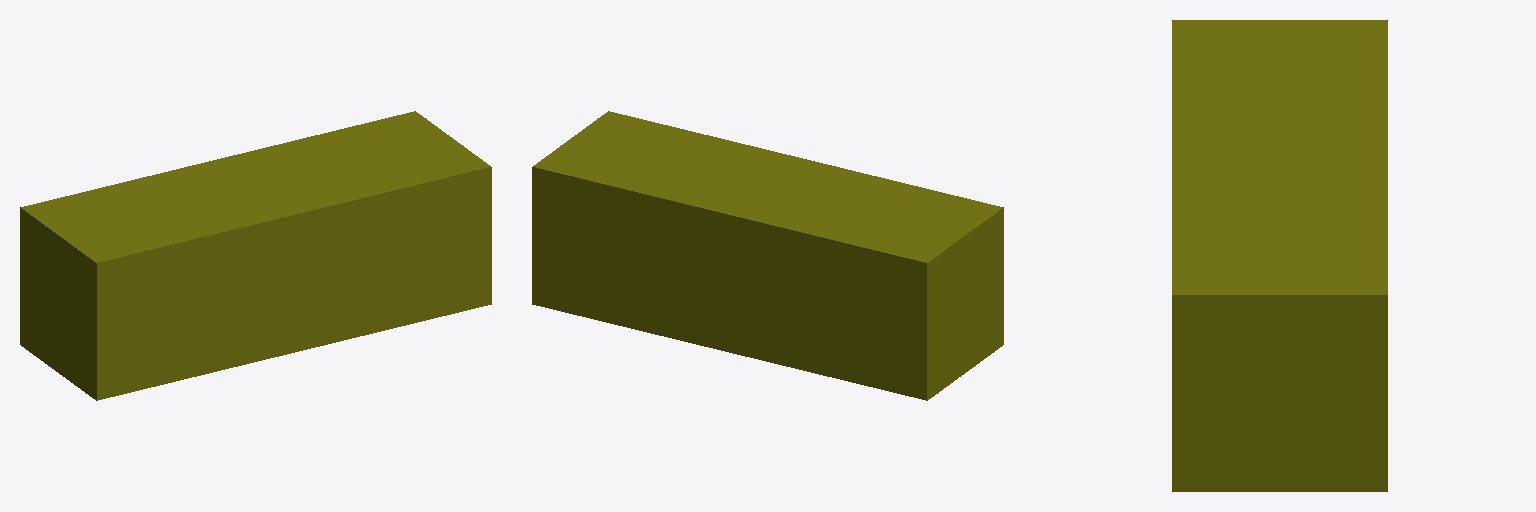
robot.urdf — block:
<robot name="block">
  
  <link name="block1">
    <visual>
      <origin xyz="0.0 0.0 0.0" rpy="0 0 0"/>
      <geometry>
        <box size="0.013818134757157804 0.05 0.05"/>
      </geometry>
      <material name="dark_yellow">
        <color rgba="0.5 0.5 0.1 1"/>
      </material>
    </visual> 
    <collision>
      <origin xyz="0.0 0.0 0.0" rpy="0 0 0"/>
      <geometry>
        <box size="0.013818134757157804 0.05 0.05"/>
      </geometry>
    </collision>
    <inertial>
      <mass value="0.9140615701668282"/>
      <inertia ixx="0.0003808589875695118" ixy="0" ixz="0" iyy="0.00020497380140846333" iyz="0" izz="0.00020497380140846333"/>
    </inertial>
  </link>

  <link name="block2">
    <visual>
      <origin xyz="0.0 0.0 0.0" rpy="0 0 0"/>
      <geometry>
        <box size="0.013818134757157804 0.05 0.05"/>
      </geometry>
      <material name="dark_yellow">
        <color rgba="0.5 0.5 0.1 1"/>
      </material>
    </visual> 
    <collision>
      <origin xyz="0.0 0.0 0.0" rpy="0 0 0"/>
      <geometry>
        <box size="0.013818134757157804 0.05 0.05"/>
      </geometry>
    </collision>
    <inertial>
      <mass value="0.24977644088794848"/>
      <inertia ixx="0.00010407351703664522" ixy="0" ixz="0" iyy="5.601113564126199e-05" iyz="0" izz="5.601113564126199e-05"/>
    </inertial>
  </link>

  <link name="block3">
    <visual>
      <origin xyz="0.0 0.0 0.0" rpy="0 0 0"/>
      <geometry>
        <box size="0.12236373048568439 0.05 0.05"/>
      </geometry>
      <material name="dark_yellow">
        <color rgba="0.5 0.5 0.1 1"/>
      </material>
    </visual> 
    <collision>
      <origin xyz="0.0 0.0 0.0" rpy="0 0 0"/>
      <geometry>
        <box size="0.12236373048568439 0.05 0.05"/>
      </geometry>
    </collision>
    <inertial>
      <mass value="0.9140615701668282"/>
      <inertia ixx="0.0003808589875695118" ixy="0" ixz="0" iyy="0.0013309408706971644" iyz="0" izz="0.0013309408706971644"/>
    </inertial>
  </link>

  <joint name="block_link1" type="fixed">
    <parent link="block1"/>
    <child link="block2"/>
    <origin xyz="0.013818134757157804 0.0 0.0"/>
  </joint>

  <joint name="block_link2" type="fixed">
    <parent link="block2"/>
    <child link="block3"/>
    <origin xyz="0.0680909326214211 0.0 0.0"/>
  </joint>

</robot>

--- Render facts (derived) ---
The picture shows the robot from 3 angles, left to right: view 1: azimuth 30°, elevation 25°; view 2: azimuth 150°, elevation 25°; view 3: azimuth 270°, elevation 25°; orthographic projection.
Model block with 3 links and 2 joints (2 fixed), rooted at block1, posed all joints at 0.
Links seen in each view (by area): view 1: block3, block1, block2; view 2: block3, block1, block2; view 3: block3, block1, block2.
Link boxes in pixels (box(x1,y1,x2,y2)): block3: box(94, 111, 491, 382); block1: box(20, 199, 132, 400); block2: box(57, 190, 168, 391); block3: box(532, 111, 929, 382); block1: box(891, 199, 1003, 400); block2: box(855, 190, 966, 391); block3: box(1172, 71, 1387, 491); block1: box(1172, 20, 1387, 45); block2: box(1172, 46, 1387, 70).
Size in the robot's own frame: 0.15 by 0.05 by 0.05 metres.
Geometry: primitives only (box / cylinder / sphere), no mesh files.